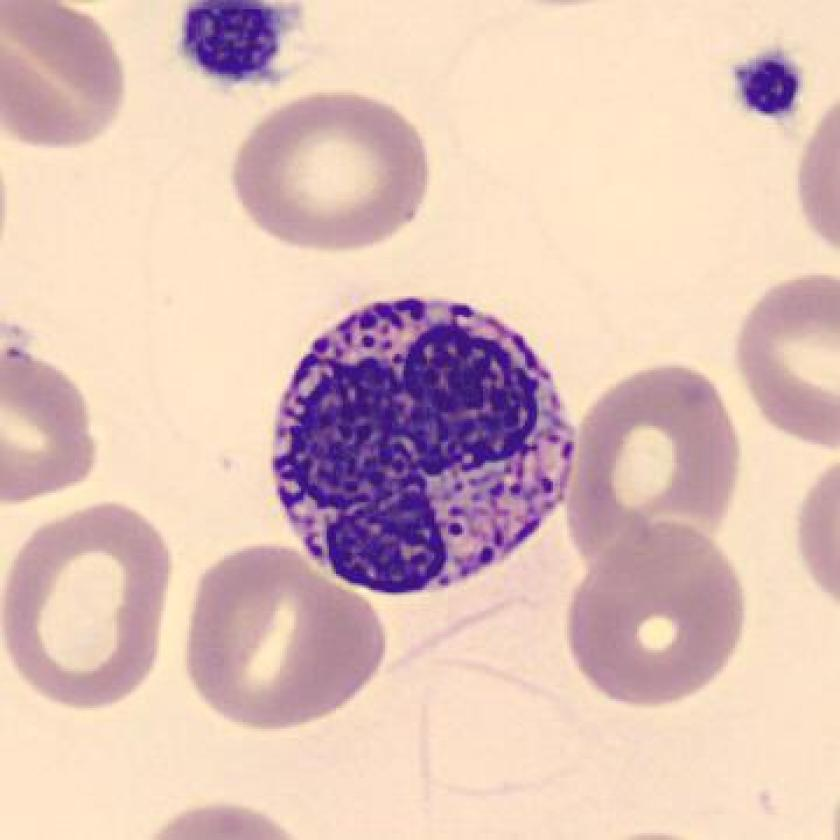basophil: (269, 290, 580, 598)
